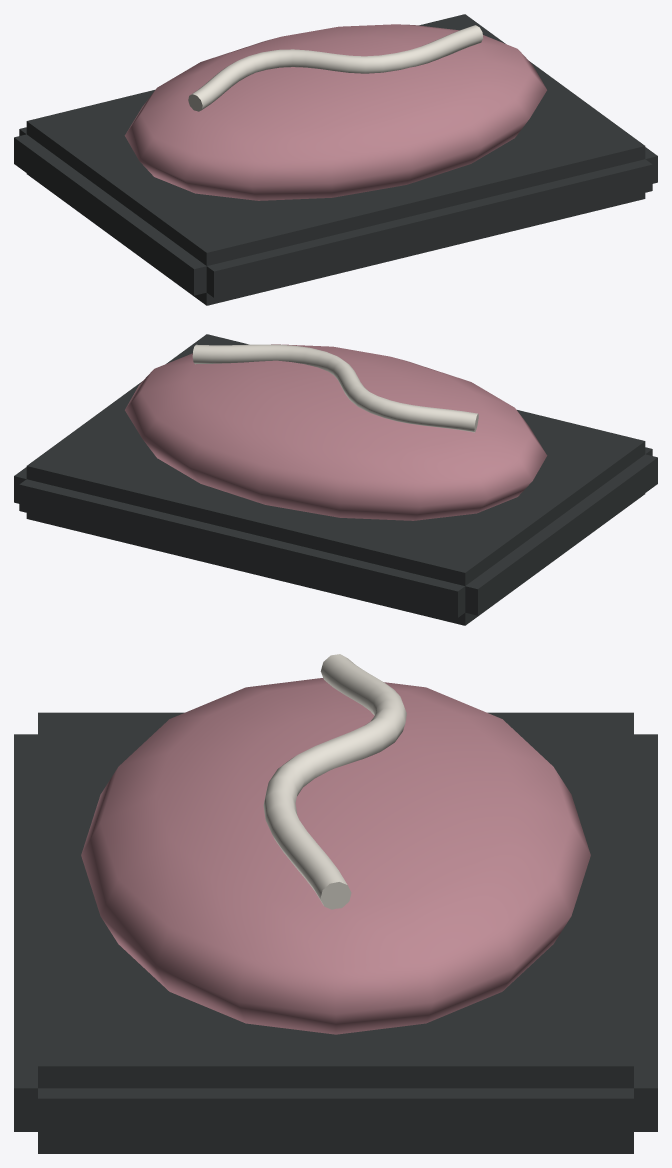
File: sku_meat.glb
3 views of the same model, one above another, from view 1: azimuth 30°, elevation 25°; view 2: azimuth 150°, elevation 25°; view 3: azimuth 270°, elevation 25° (orthographic). The views are drawn at different scales.
Parts seen in each view (by area): view 1: sku_meat_Anodised_graphite, sku_meat_FY21_rose, sku_meat_FY21_chalk_lacquer; view 2: sku_meat_Anodised_graphite, sku_meat_FY21_rose, sku_meat_FY21_chalk_lacquer; view 3: sku_meat_Anodised_graphite, sku_meat_FY21_rose, sku_meat_FY21_chalk_lacquer.
Part boxes in pixels (x1=…): sku_meat_Anodised_graphite: x1=14, y1=14, x2=657, y2=305; sku_meat_FY21_rose: x1=124, y1=24, x2=546, y2=200; sku_meat_FY21_chalk_lacquer: x1=188, y1=25, x2=483, y2=111; sku_meat_Anodised_graphite: x1=14, y1=334, x2=657, y2=625; sku_meat_FY21_rose: x1=125, y1=344, x2=547, y2=520; sku_meat_FY21_chalk_lacquer: x1=192, y1=344, x2=478, y2=432; sku_meat_Anodised_graphite: x1=14, y1=712, x2=657, y2=1153; sku_meat_FY21_rose: x1=81, y1=678, x2=590, y2=1034; sku_meat_FY21_chalk_lacquer: x1=263, y1=654, x2=406, y2=909.
Bounding box in the file's own units: 0.33 × 0.0928 × 0.24.
